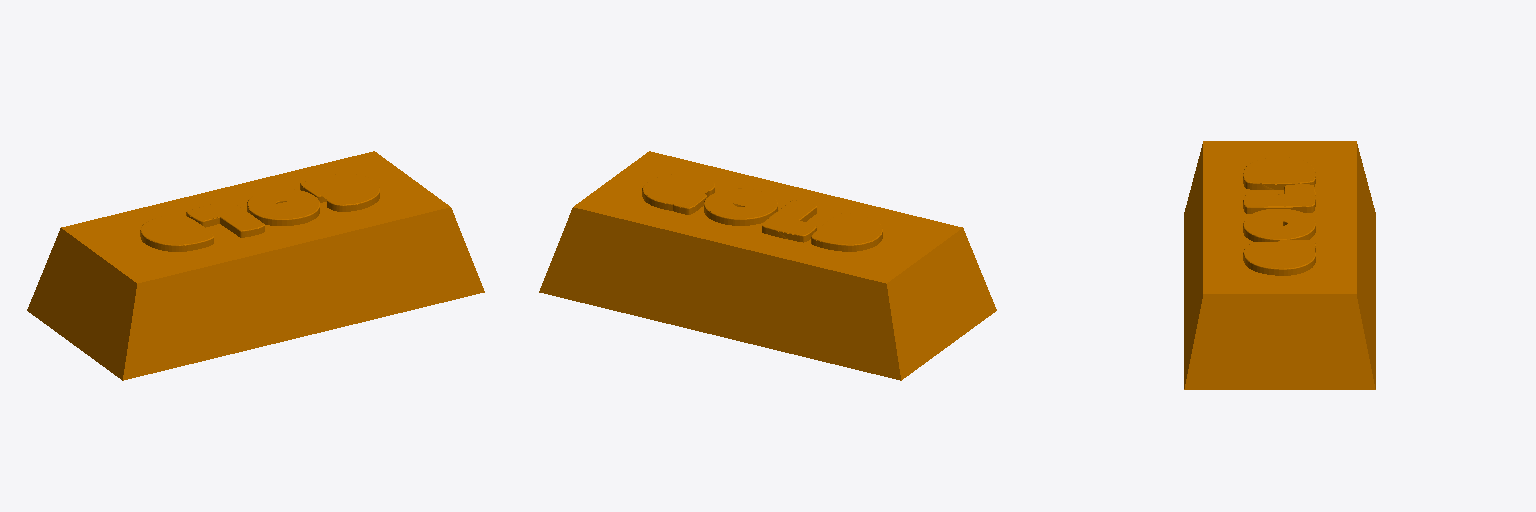
Rendered from Gold_Bar.obj.
3 renders of one model, left to right at view 1: azimuth 30°, elevation 25°; view 2: azimuth 150°, elevation 25°; view 3: azimuth 270°, elevation 25°, orthographic.
Parts seen in each view (by area): view 1: Gold_Bar; view 2: Gold_Bar; view 3: Gold_Bar.
Boxes of the visible parts, x1,y1,x2,y2 form: Gold_Bar: [27, 151, 484, 380]; Gold_Bar: [539, 151, 996, 380]; Gold_Bar: [1184, 141, 1375, 389].
Bounding box in the file's own units: 1.43 × 0.3431 × 0.6541.